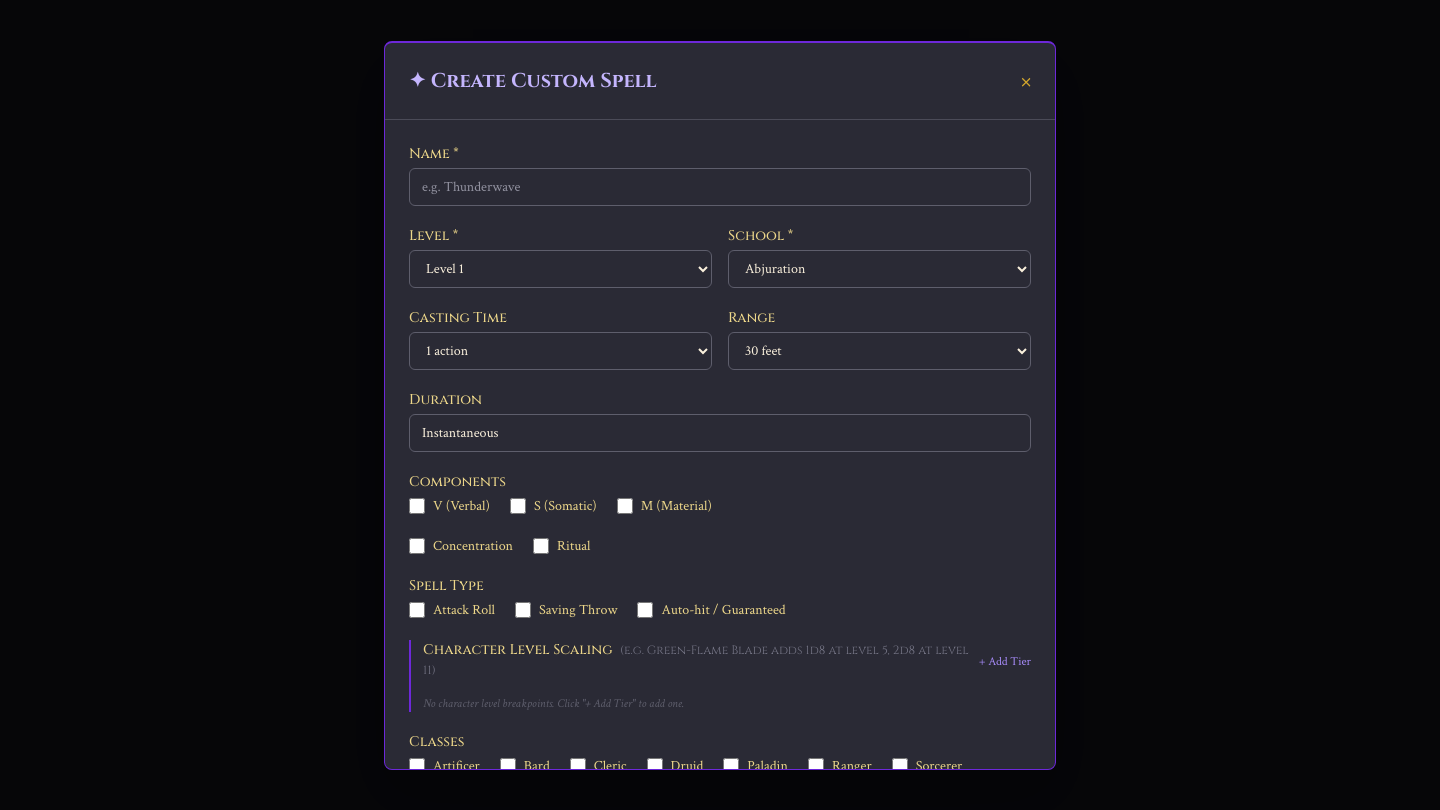
Test: CreateSpellModal › validation › shows save type error when Saving Throw is enabled but no save type chosen
In the field with placeholder "e.g. Thunderwave": (720, 186) x1=409 y1=168 x2=1031 y2=206, type "My Spell"
(page scrolled)
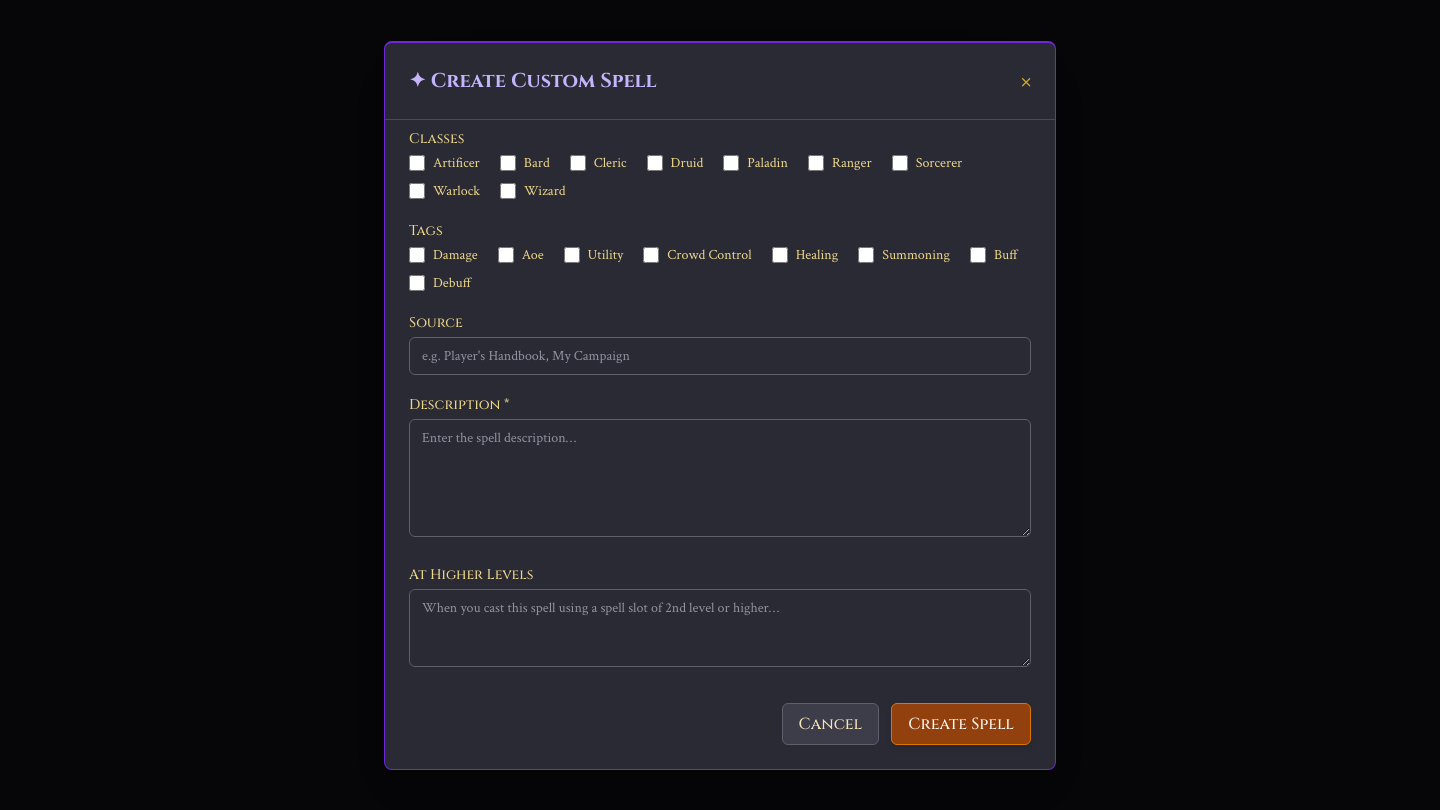
In the text box with placeholder "Enter the spell description…": (720, 478) x1=409 y1=418 x2=1031 y2=536, type "A description."
(page scrolled)
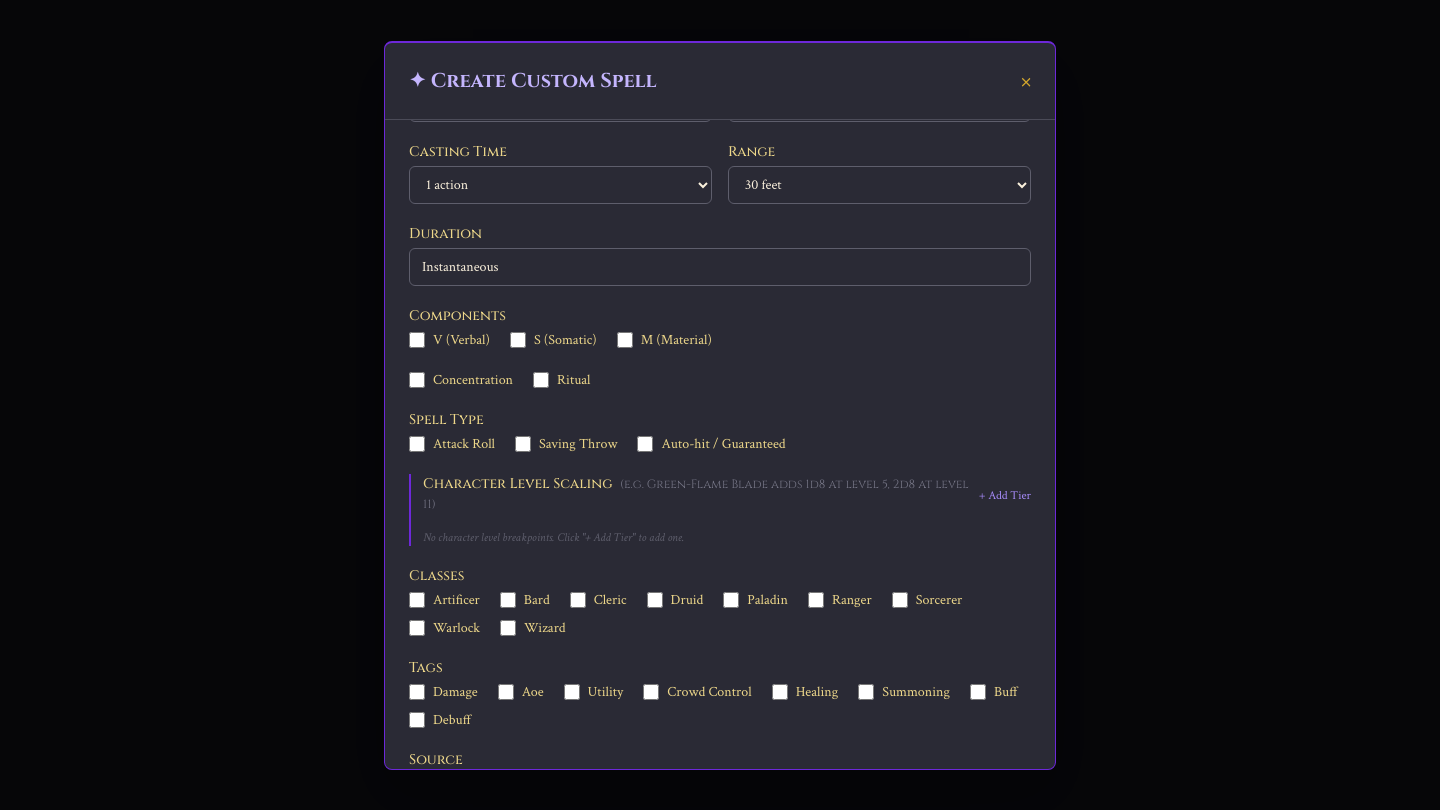
Click the checkbox labelled "Saving Throw": (523, 444) x1=515 y1=436 x2=531 y2=452
(page scrolled)
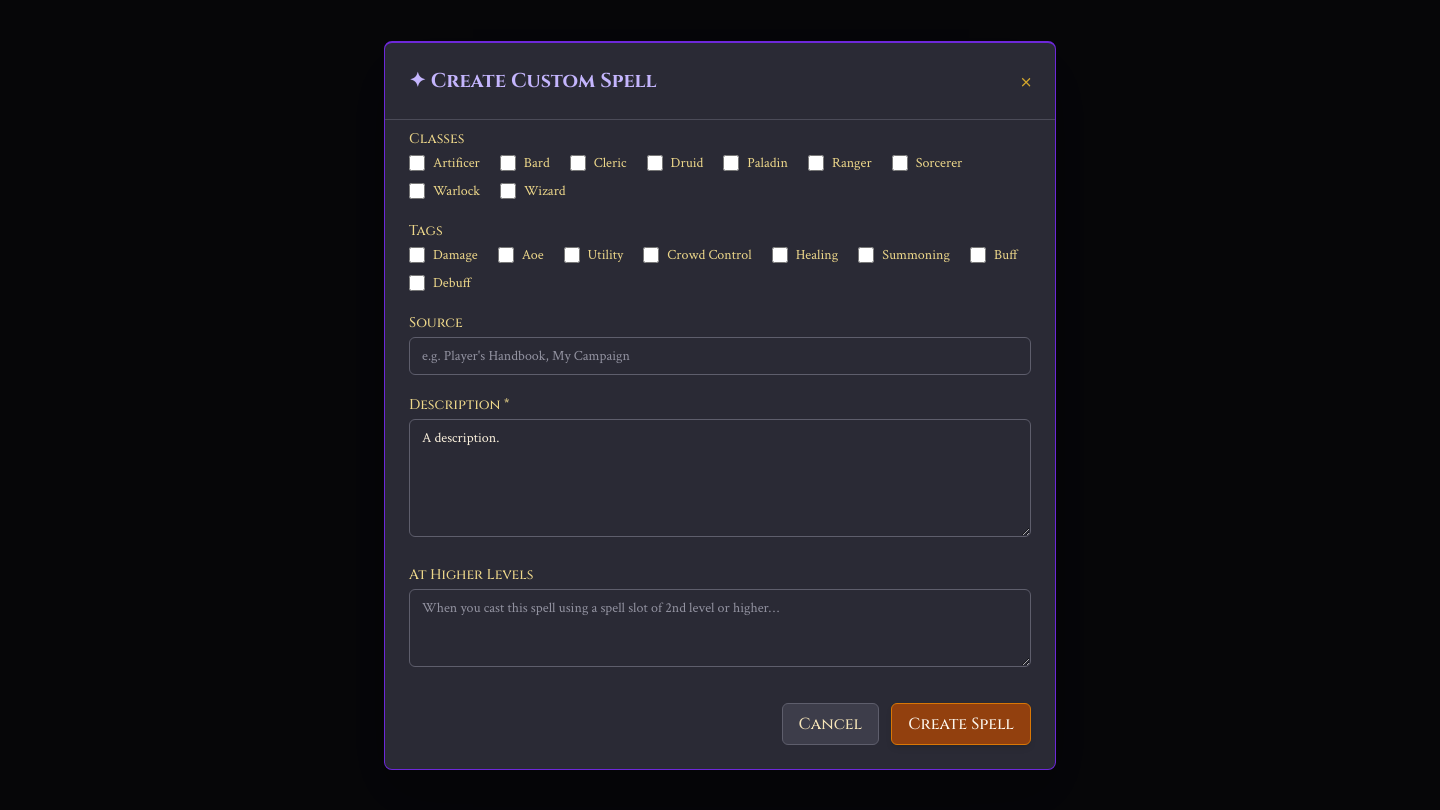
Click the button "Create Spell": (961, 724) x1=891 y1=702 x2=1031 y2=744
(page scrolled)
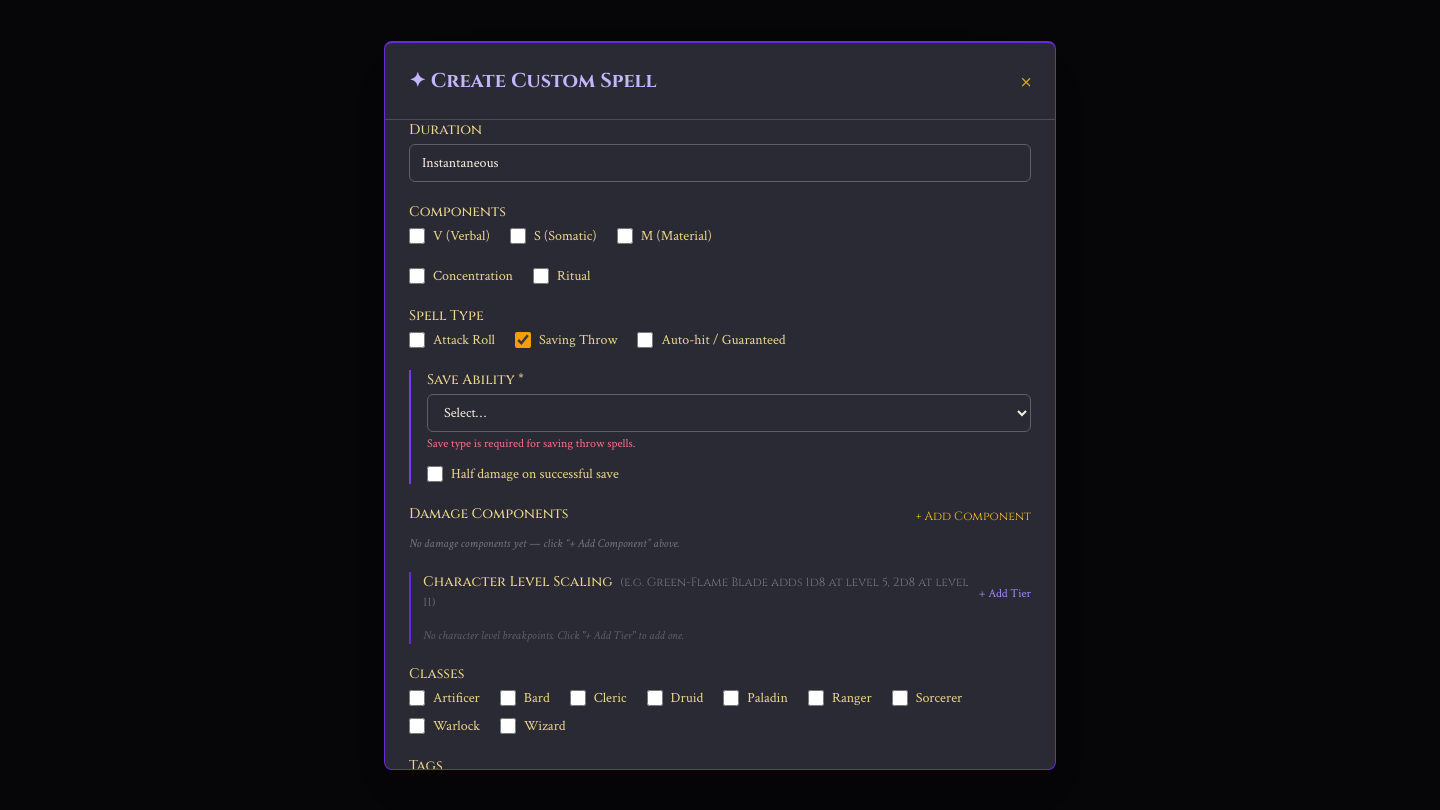
Now the text "Save type is required for saving throw spells." is shown, box x1=427 y1=436 x2=635 y2=450
